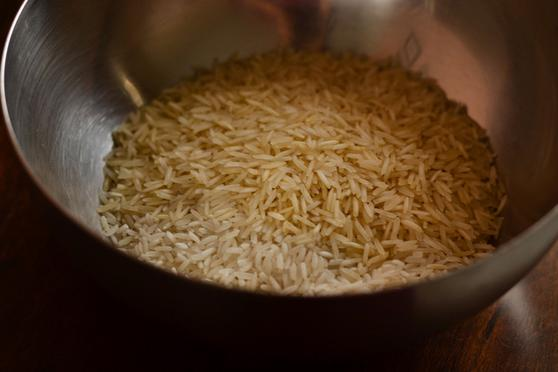rice: (176, 90, 432, 257)
